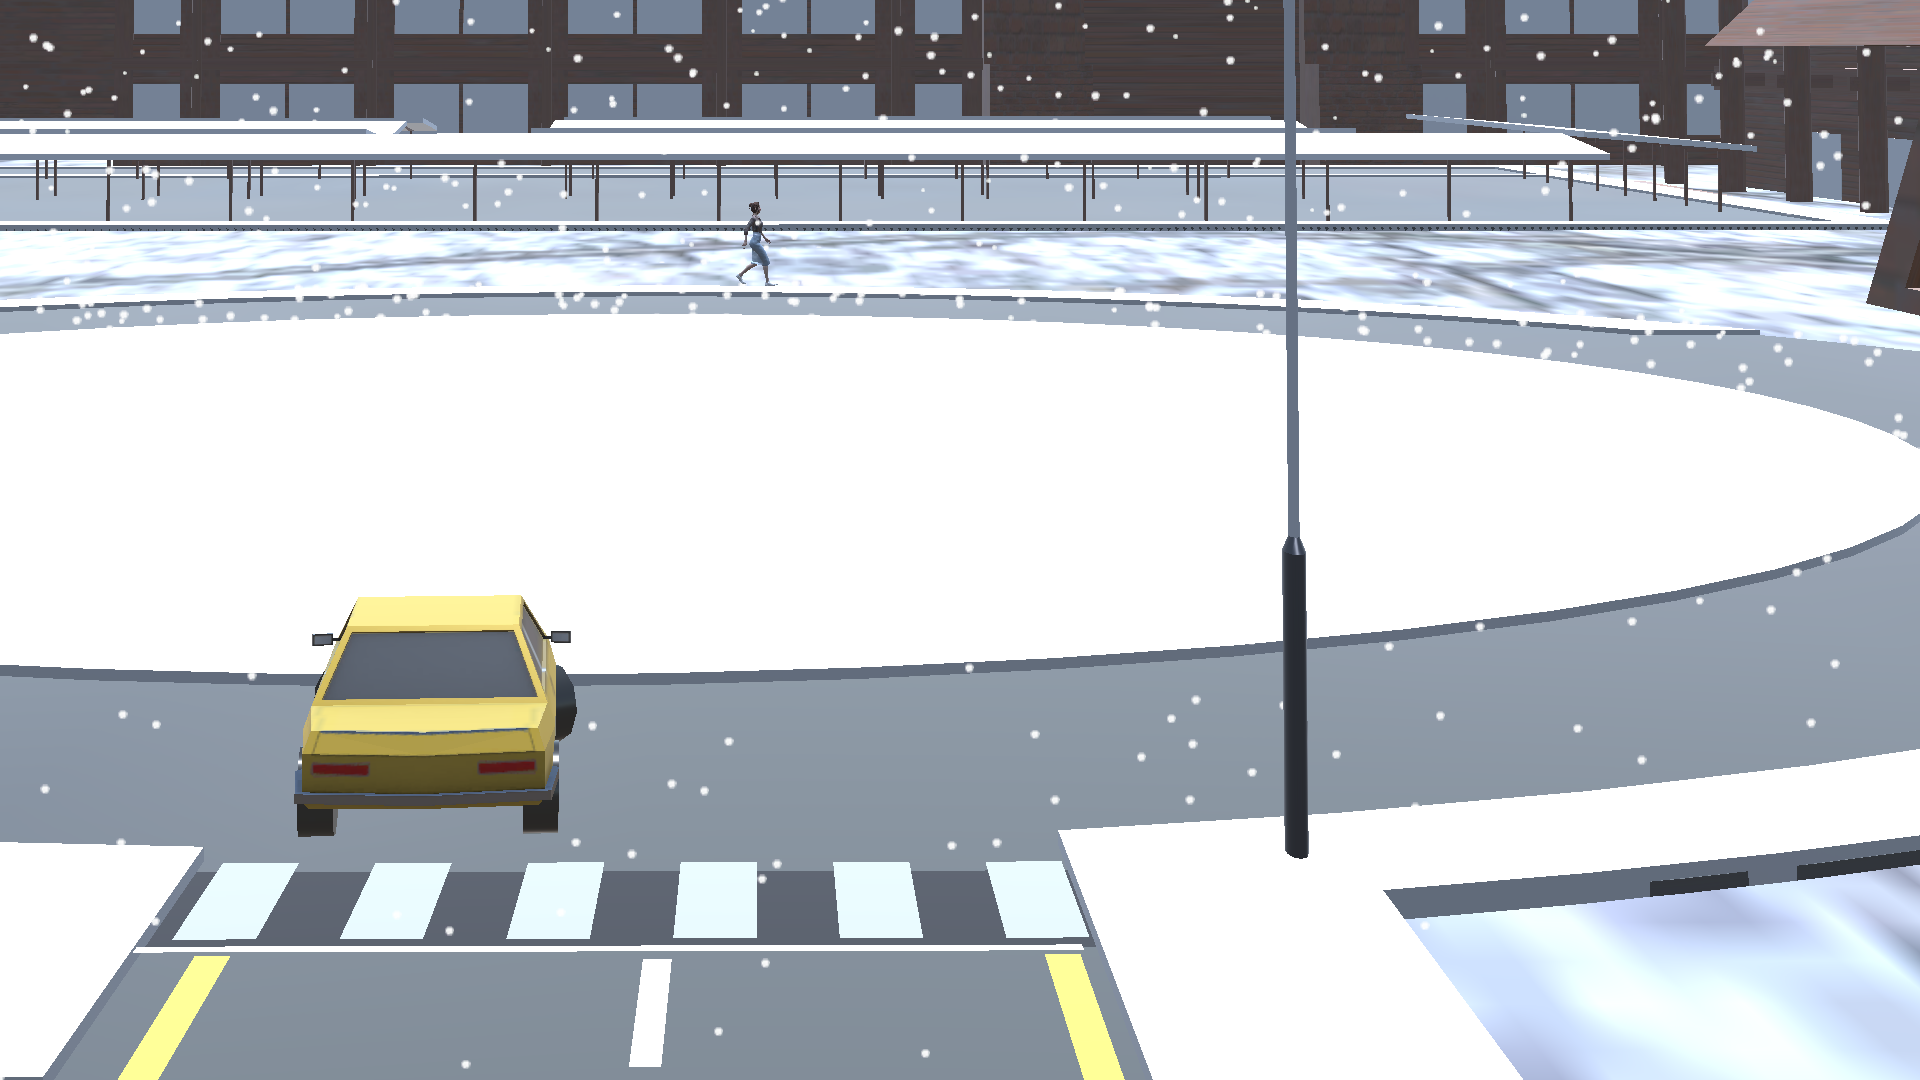pedestrian: (729, 197, 788, 293)
